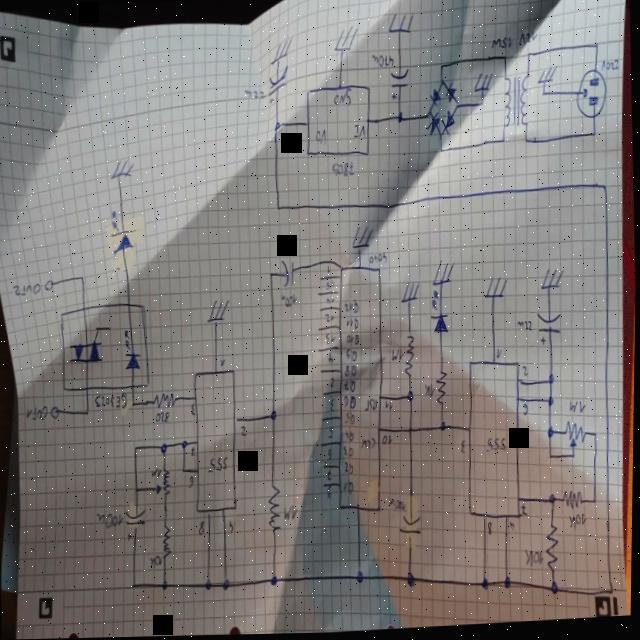capacitor: (537, 313, 563, 350), (268, 66, 290, 107), (126, 509, 150, 544), (400, 515, 425, 542), (390, 70, 410, 103), (280, 258, 297, 291)
crossover: (410, 429, 415, 437)
diode: (109, 209, 139, 257), (429, 290, 452, 337), (441, 114, 457, 140), (426, 114, 441, 139), (445, 83, 458, 105), (430, 91, 442, 109)
ground: (270, 39, 294, 68), (334, 28, 359, 55), (484, 278, 510, 303), (387, 14, 415, 37), (433, 261, 456, 289), (208, 300, 232, 325), (352, 226, 375, 252), (540, 270, 565, 293), (110, 159, 135, 181), (400, 283, 422, 306), (473, 74, 495, 95), (537, 68, 558, 88)
junction: (407, 573, 418, 591), (551, 583, 561, 599), (504, 578, 513, 593), (548, 376, 557, 390), (482, 579, 491, 593), (407, 391, 416, 405), (358, 572, 366, 586), (224, 578, 232, 592), (397, 114, 405, 127), (271, 411, 279, 424), (550, 497, 558, 509), (440, 422, 448, 434), (549, 398, 556, 411), (207, 579, 214, 592), (162, 443, 169, 456), (273, 576, 280, 588), (275, 123, 282, 134), (164, 581, 170, 593), (549, 430, 555, 442), (610, 589, 617, 598), (183, 441, 189, 451), (181, 468, 188, 476), (594, 433, 600, 442), (427, 112, 433, 121), (134, 582, 139, 592), (269, 272, 275, 280), (480, 102, 486, 110), (525, 139, 530, 148), (502, 140, 507, 149), (81, 274, 86, 283), (603, 186, 608, 195), (440, 80, 445, 89), (133, 402, 138, 410), (594, 501, 599, 509), (86, 410, 91, 418), (592, 133, 597, 141), (594, 45, 599, 53), (440, 65, 445, 73), (542, 93, 547, 101), (135, 445, 139, 454), (527, 55, 532, 62), (136, 487, 140, 495), (503, 58, 508, 64), (277, 208, 282, 214), (550, 456, 554, 463), (456, 105, 460, 112), (440, 150, 444, 156), (440, 134, 444, 140), (573, 456, 577, 462)
resistor: (268, 486, 285, 534), (546, 525, 562, 574), (566, 422, 588, 453), (404, 336, 417, 380), (155, 469, 173, 499), (436, 373, 450, 409), (564, 492, 586, 513), (154, 394, 178, 412), (163, 524, 174, 560)
terminal: (51, 405, 61, 421), (45, 279, 55, 292)
text: (95, 392, 129, 412), (97, 512, 127, 531), (331, 162, 356, 180), (526, 550, 547, 571), (14, 282, 42, 297), (333, 88, 352, 110), (569, 514, 590, 533), (27, 405, 50, 422), (372, 55, 396, 71), (569, 401, 589, 420), (210, 457, 230, 476), (245, 89, 268, 104), (390, 498, 409, 516), (489, 438, 509, 455), (518, 32, 538, 49), (491, 38, 513, 53), (601, 60, 621, 76), (369, 253, 389, 268), (281, 295, 299, 310), (285, 506, 300, 523), (361, 437, 377, 452), (392, 348, 406, 365), (315, 130, 328, 148), (157, 411, 172, 426), (345, 302, 360, 317), (517, 322, 534, 335), (354, 125, 367, 142), (365, 400, 379, 415), (344, 412, 357, 428), (150, 556, 164, 570), (425, 384, 437, 400), (345, 397, 358, 411), (344, 382, 357, 396), (345, 462, 356, 478), (346, 366, 358, 380), (347, 350, 359, 364), (347, 319, 360, 331), (199, 520, 208, 537), (521, 505, 531, 520), (152, 468, 164, 480), (347, 336, 359, 348), (345, 447, 356, 460), (345, 482, 355, 496), (326, 335, 337, 346), (330, 400, 338, 415), (489, 524, 496, 540), (229, 521, 236, 537), (462, 442, 469, 458), (384, 436, 394, 447), (385, 403, 395, 414), (325, 315, 336, 325), (347, 432, 356, 444), (328, 487, 335, 502), (328, 353, 335, 368), (241, 426, 249, 439), (522, 367, 530, 380), (326, 282, 336, 292), (330, 378, 337, 391), (497, 349, 504, 362), (191, 404, 197, 419), (326, 298, 336, 307), (189, 476, 195, 490), (328, 450, 334, 464), (329, 428, 335, 442), (524, 406, 530, 420), (328, 470, 334, 483), (192, 447, 198, 459), (510, 524, 517, 534), (221, 358, 227, 369), (327, 267, 333, 275)
transformer: (500, 77, 533, 134)
